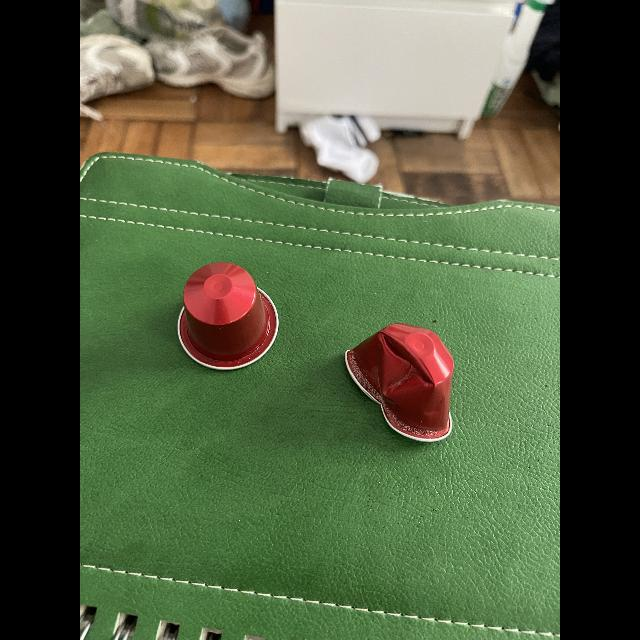damaged_capsule: (336, 319, 472, 456)
intact_capsule: (158, 261, 288, 379)
